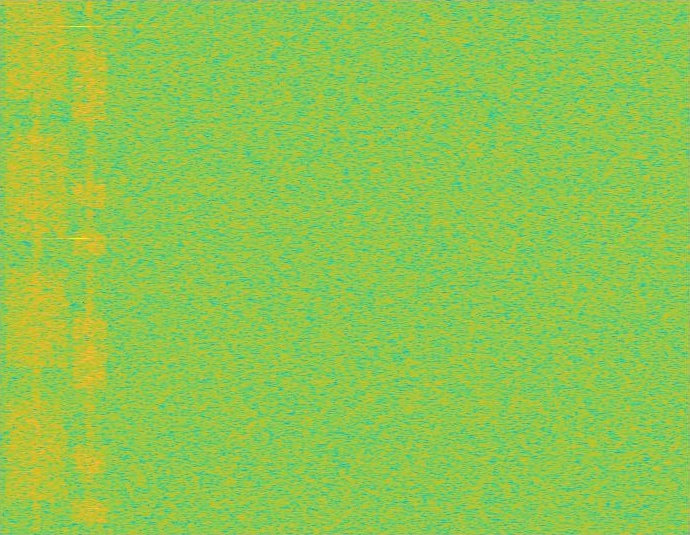5G: (2, 0, 71, 534)
DSSS: (32, 0, 42, 534), (86, 0, 94, 534)
LTE: (73, 0, 107, 534)
Radar: (73, 0, 86, 534)
